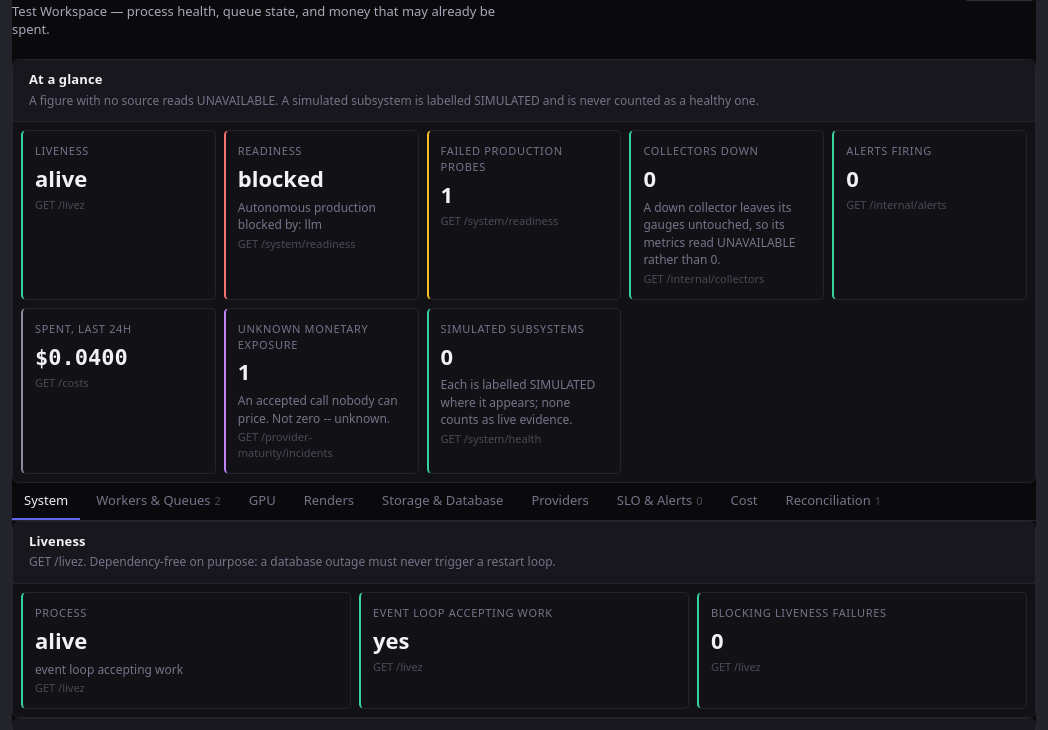
it: Operations renders when data arrives › lists jobs with their lease owner and expiry
Click the tab "Workers & Queues2" at x=158, y=501, box [84,483,233,520]
(page scrolled)
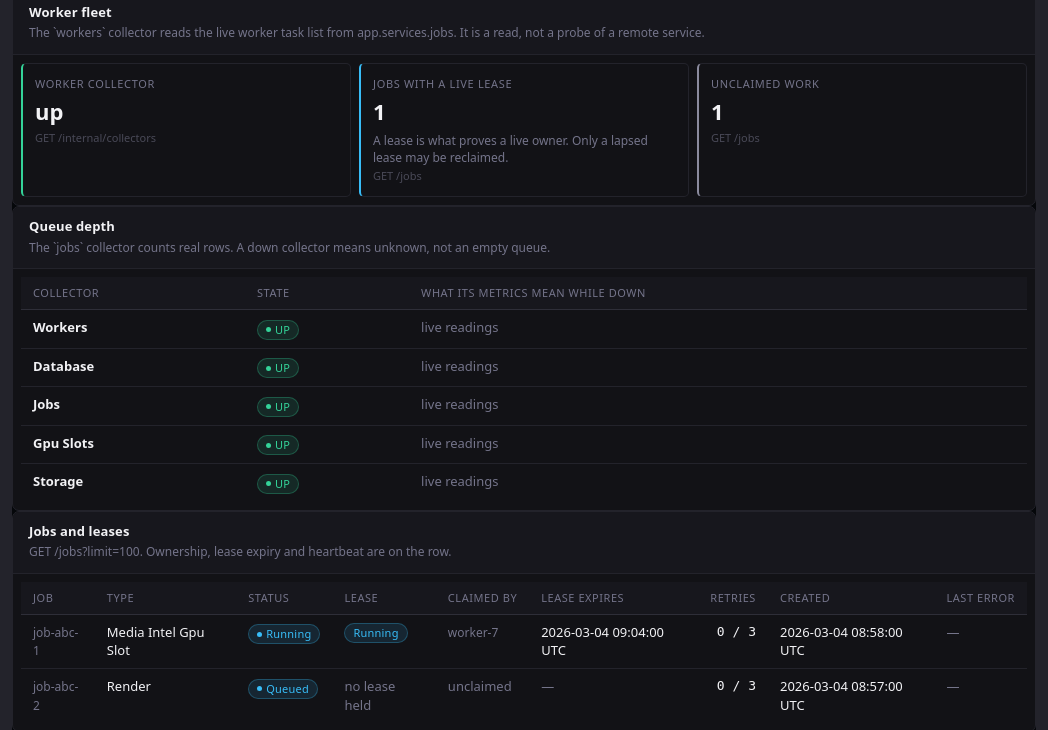
Now the heading "Jobs and leases" is shown, box [29,522,130,540]
Now the text "worker-7" is shown, box [448,624,498,641]
Now the text "no lease held" is shown, box [344,677,395,714]
